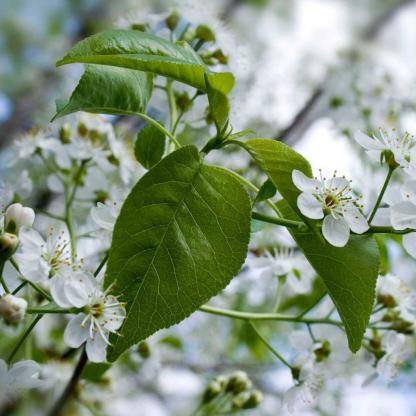Cherry leaf: (98, 134, 258, 389), (224, 124, 327, 230)
